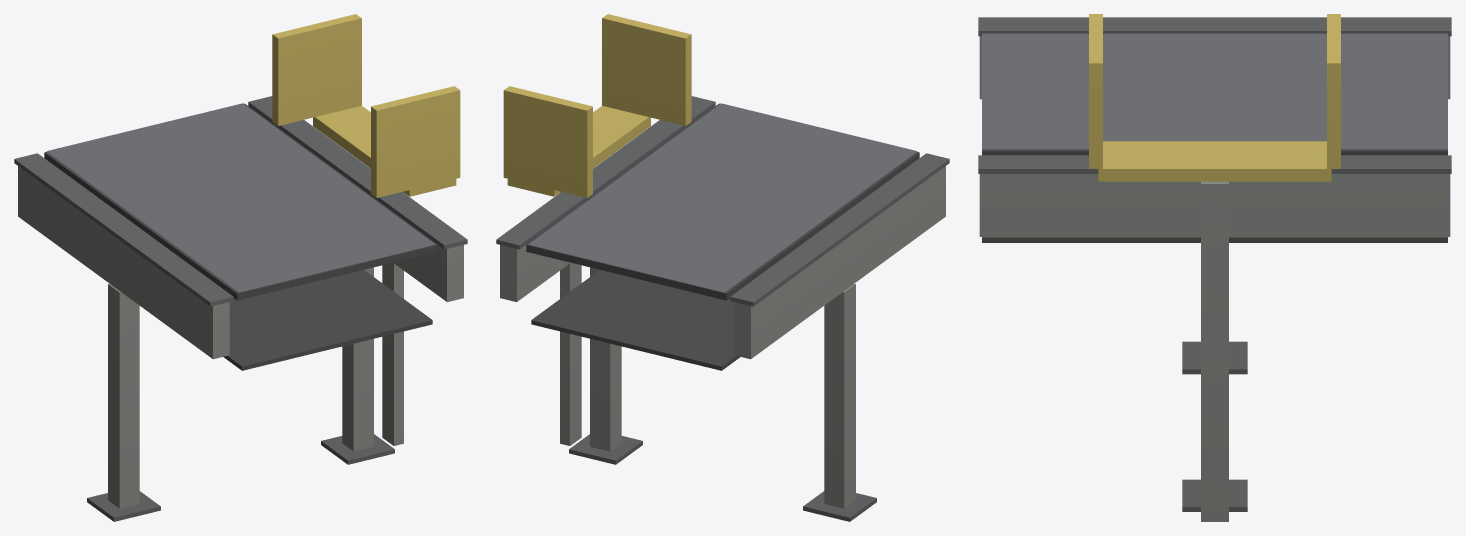
File: cvMerge_steel.glb
The picture shows the model from 3 angles, left to right: view 1: azimuth 30°, elevation 25°; view 2: azimuth 150°, elevation 25°; view 3: azimuth 270°, elevation 25°; orthographic projection. The views are drawn at different scales.
Visible parts, largest first — view 1: cvMerge_steel; view 2: cvMerge_steel; view 3: cvMerge_steel.
Boxes of the visible parts, x1=… form: cvMerge_steel: x1=14, y1=14, x2=467, y2=521; cvMerge_steel: x1=496, y1=14, x2=949, y2=521; cvMerge_steel: x1=978, y1=14, x2=1451, y2=521.
Size of the model in its own units: 0.92 by 1.1 by 1.02.
